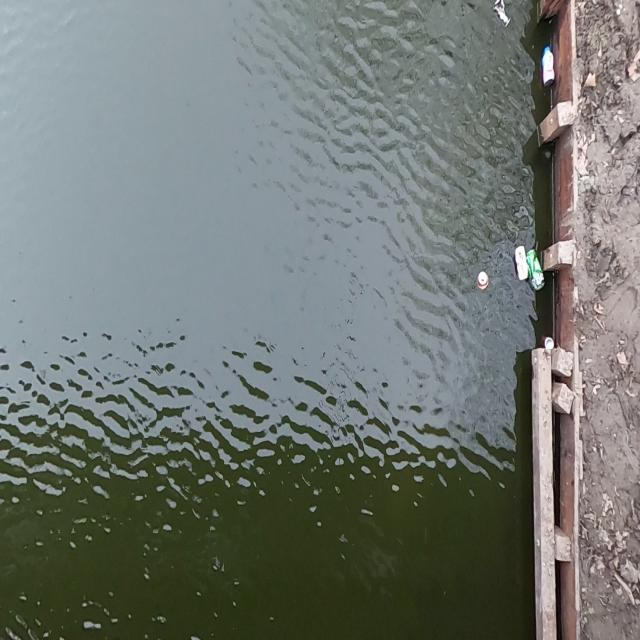Non plastique: (527, 236, 546, 297), (511, 240, 528, 295), (492, 0, 515, 40), (472, 268, 499, 302), (540, 329, 558, 352)
